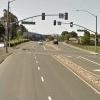Traffic light: (31, 5, 84, 29)
